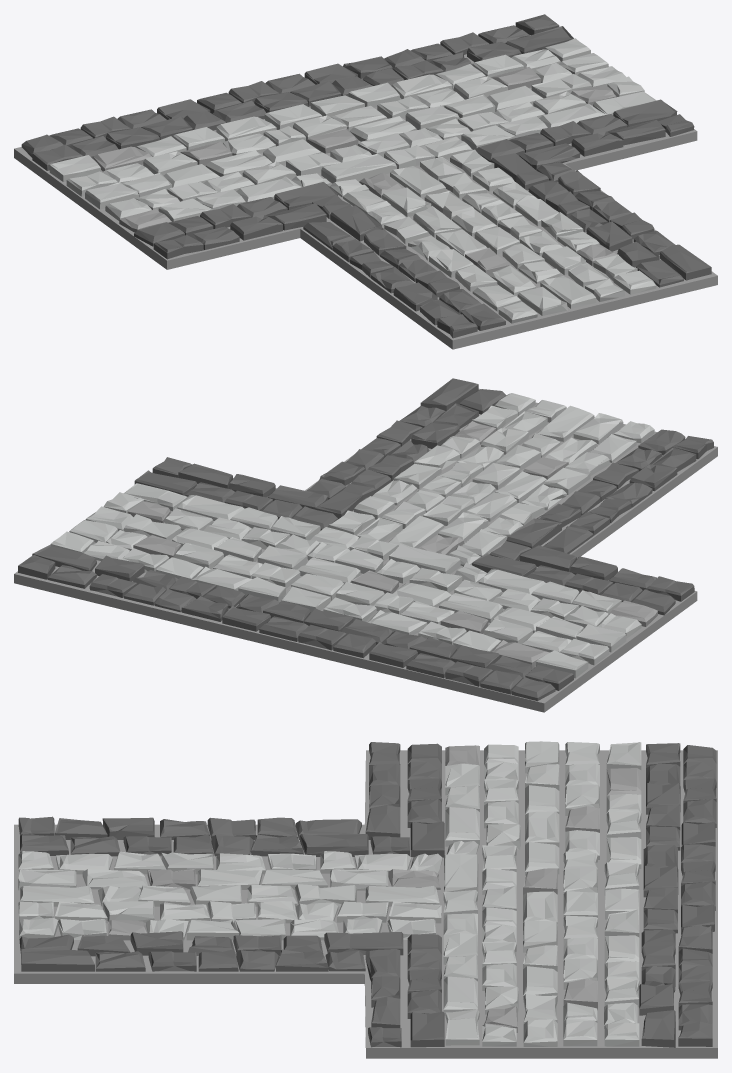
Rendered from Road_Brick_02.glb.
The picture shows the model from 3 angles, top to bottom: view 1: azimuth 30°, elevation 25°; view 2: azimuth 150°, elevation 25°; view 3: azimuth 270°, elevation 25°; orthographic projection. The views are drawn at different scales.
Parts seen in each view (by area): view 1: road_breek_2; view 2: road_breek_2; view 3: road_breek_2.
Boxes of the visible parts, bbox=[...] form: road_breek_2: bbox=[14, 14, 717, 349]; road_breek_2: bbox=[14, 378, 717, 712]; road_breek_2: bbox=[14, 741, 717, 1058].
Size of the model in its own units: 6 by 0.2015 by 6.
Materials: 1 (1 with a texture image).
